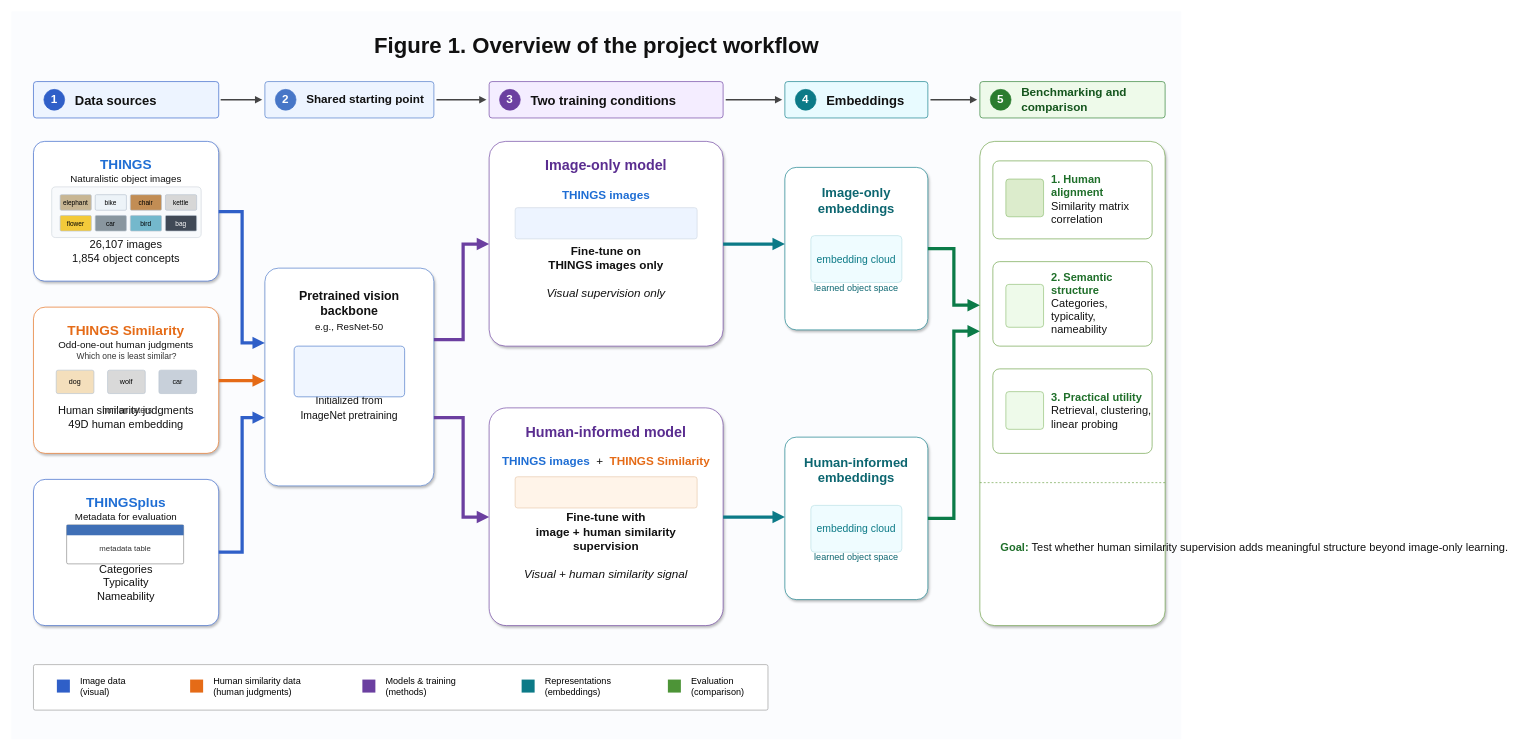
The diagram is 1519 pixels wide and 750 high, and some of its shapes have lost their labels. Each missing label, with the centre of its shape:
"image batch + similarity judgments" goes at pixel 605 492.
"image batch: elephant | bike | chair | kettle | ..." goes at pixel 605 223.
"matrix" goes at pixel 1024 197.
"neural network" goes at pixel 349 371.
"plot" goes at pixel 1024 410.
"tree star tag" goes at pixel 1024 305.
